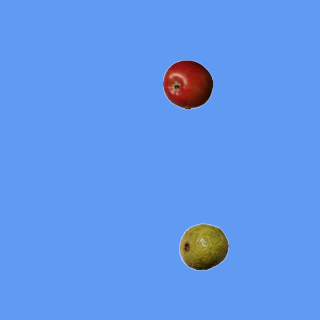Apple Braeburn: (162, 59, 212, 109)
Guava: (178, 221, 228, 271)
